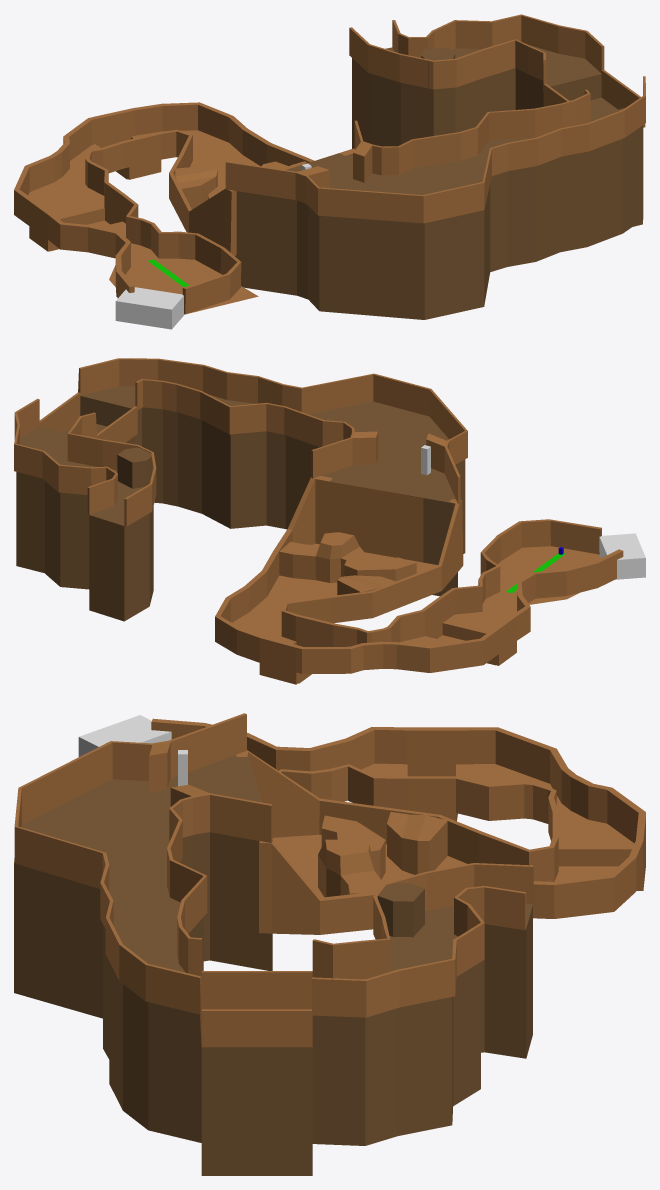
The model's file is testlayout.fbx.
3 renders of one model, top to bottom at view 1: azimuth 30°, elevation 25°; view 2: azimuth 150°, elevation 25°; view 3: azimuth 270°, elevation 25°, orthographic. The views are drawn at different scales.
Visible parts, largest first — view 1: floorLayout, floorLayout.001, floorLayout.002, walls2, walls1, Cube, wall3; view 2: floorLayout, walls1, floorLayout.001, walls2, floorLayout.002, wall3, Cube, FinalConsoleHavingLedge; view 3: floorLayout, floorLayout.001, walls1, floorLayout.002, walls2, wall3, FinalConsoleHavingLedge, Cube.
Part boxes in pixels (x1,y1,x2,y2): floorLayout: (28, 45, 643, 319); floorLayout.001: (225, 14, 645, 223); floorLayout.002: (349, 27, 590, 182); walls2: (85, 129, 241, 314); walls1: (14, 102, 354, 297); Cube: (115, 287, 184, 329); wall3: (175, 161, 306, 209); floorLayout: (16, 386, 600, 683); walls1: (215, 476, 623, 684); floorLayout.001: (14, 358, 467, 514); walls2: (281, 499, 601, 646); floorLayout.002: (67, 379, 378, 526); wall3: (279, 532, 416, 595); Cube: (599, 533, 645, 579); FinalConsoleHavingLedge: (117, 447, 151, 488); floorLayout: (14, 754, 634, 1175); floorLayout.001: (14, 713, 526, 1047); walls1: (151, 718, 645, 934); floorLayout.002: (167, 784, 533, 1009); walls2: (106, 743, 558, 881); wall3: (318, 812, 447, 897); FinalConsoleHavingLedge: (378, 883, 424, 937); Cube: (78, 715, 171, 756).
Size of the model in its own units: 17554 by 4533 by 12861.
